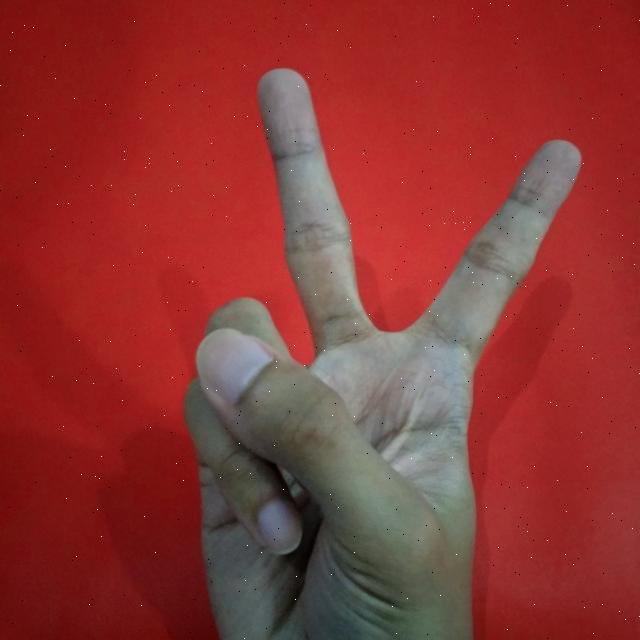V: (170, 58, 580, 640)
